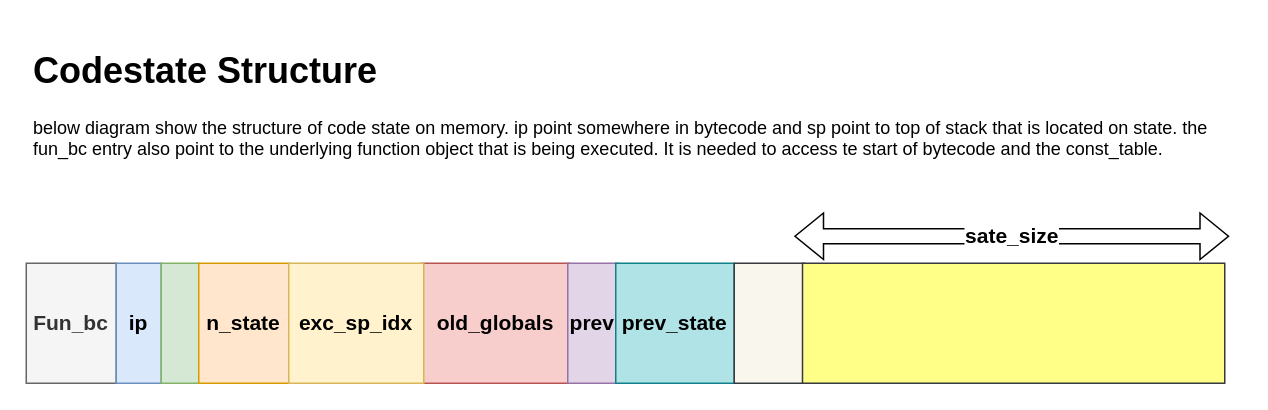
Image size: 1268x410. Some labels were removed from this diagram. Here are the shapes that lost their labels. From the top down, the box of each, then its label:
(160, 262, 199, 383): sp
(733, 262, 804, 383): frame
(801, 262, 1225, 383): state[]
